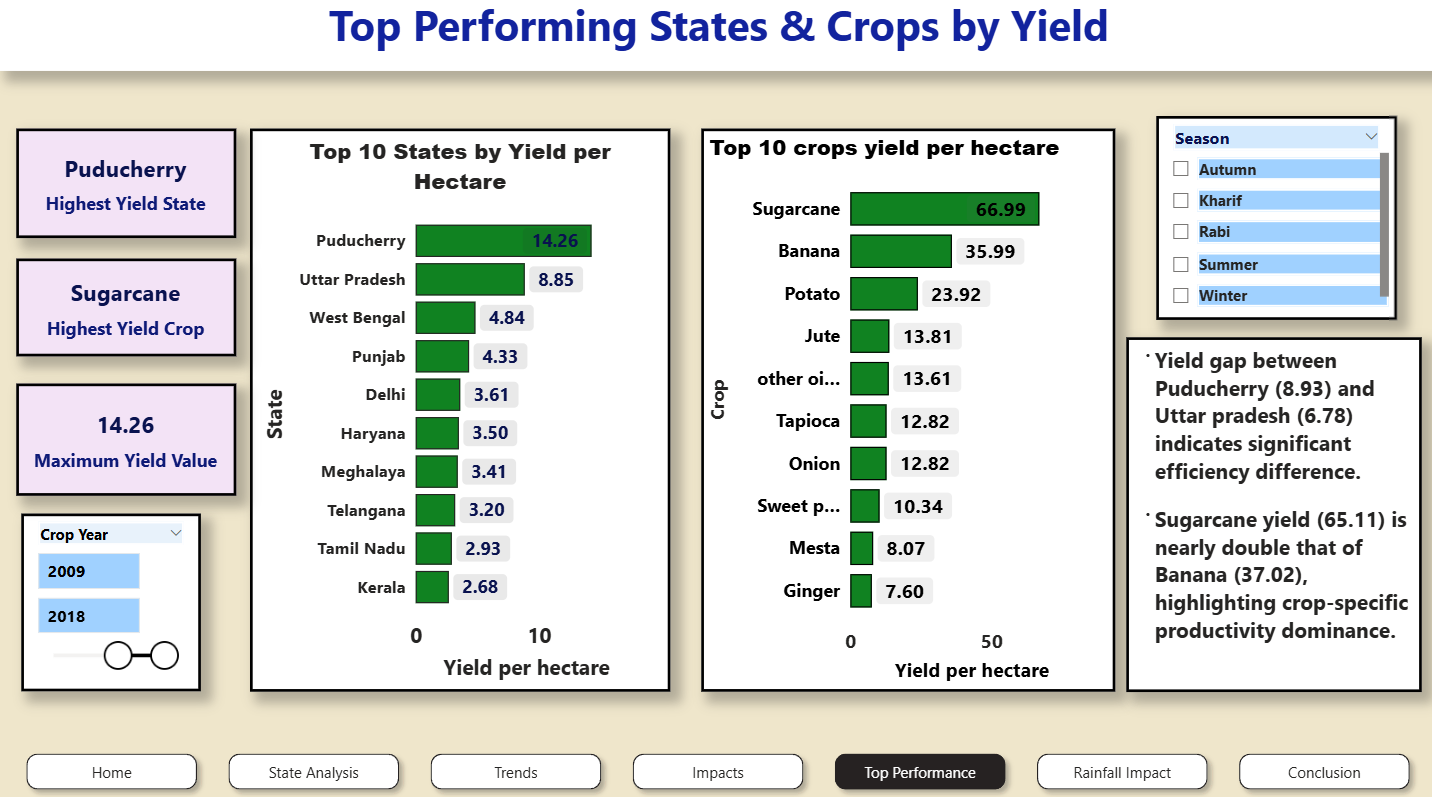

This screenshot's page, from the dashboard's own definition file:
{"tool":"powerbi","page":{"name":"Top Performance","canvas":[1280,720],"ordinal":4},"visuals":[{"type":"textbox","box":[0,0,1280.3,71.4],"z":0},{"type":"textbox","box":[0,0,1280.3,71.4],"z":1000},{"type":"clusteredBarChart","title":"Top 10 States by Yield per Hectare","fields":{"Category":["crop_yield.State"],"Y":["crop_yield.Yield per hectare"]},"box":[222.9,122.9,374.3,501.4],"z":2000},{"type":"clusteredBarChart","title":"Top 10 crops yield per hectare","fields":{"Category":["crop_yield.Crop"],"Y":["crop_yield.Yield per hectare"]},"box":[624.3,122.9,368.6,501.4],"z":3000},{"type":"slicer","fields":{"Values":["crop_yield.Season"]},"box":[1030,111.4,214.3,181.4],"z":4000},{"type":"slicer","fields":{"Values":["crop_yield.Crop_Year"]},"box":[18.6,465.7,160,158.6],"z":5000},{"type":"card","fields":{"Values":["crop_yield.Highest Yield State"]},"box":[15,122.5,196.2,97.5],"z":6000},{"type":"card","fields":{"Values":["crop_yield.Highest Yield Crop"]},"box":[15,238.8,196.2,87.5],"z":7000},{"type":"card","fields":{"Values":["crop_yield.Maximum Yield Value"]},"box":[15,350,196.2,100],"z":8000},{"type":"textbox","box":[1002.9,308.6,262.9,315.7],"z":9000},{"type":"pageNavigator","box":[15,670,1250,50],"z":9001}]}

Visuals, with their boxes in screenshot pixels (x1, y1, x2, y2), scaled from the page's 1280x720 canvas onto the 1432x797 screenshot:
textbox: {"x1": 0, "y1": 0, "x2": 1431, "y2": 79}
textbox: {"x1": 0, "y1": 0, "x2": 1431, "y2": 79}
"Top 10 States by Yield per Hectare" clusteredBarChart: {"x1": 249, "y1": 136, "x2": 668, "y2": 691}
"Top 10 crops yield per hectare" clusteredBarChart: {"x1": 698, "y1": 136, "x2": 1111, "y2": 691}
slicer - crop_yield.Season: {"x1": 1152, "y1": 123, "x2": 1392, "y2": 324}
slicer - crop_yield.Crop_Year: {"x1": 21, "y1": 516, "x2": 200, "y2": 691}
card - crop_yield.Highest Yield State: {"x1": 17, "y1": 136, "x2": 236, "y2": 244}
card - crop_yield.Highest Yield Crop: {"x1": 17, "y1": 264, "x2": 236, "y2": 361}
card - crop_yield.Maximum Yield Value: {"x1": 17, "y1": 387, "x2": 236, "y2": 498}
textbox: {"x1": 1122, "y1": 342, "x2": 1416, "y2": 691}
pageNavigator: {"x1": 17, "y1": 742, "x2": 1415, "y2": 796}
